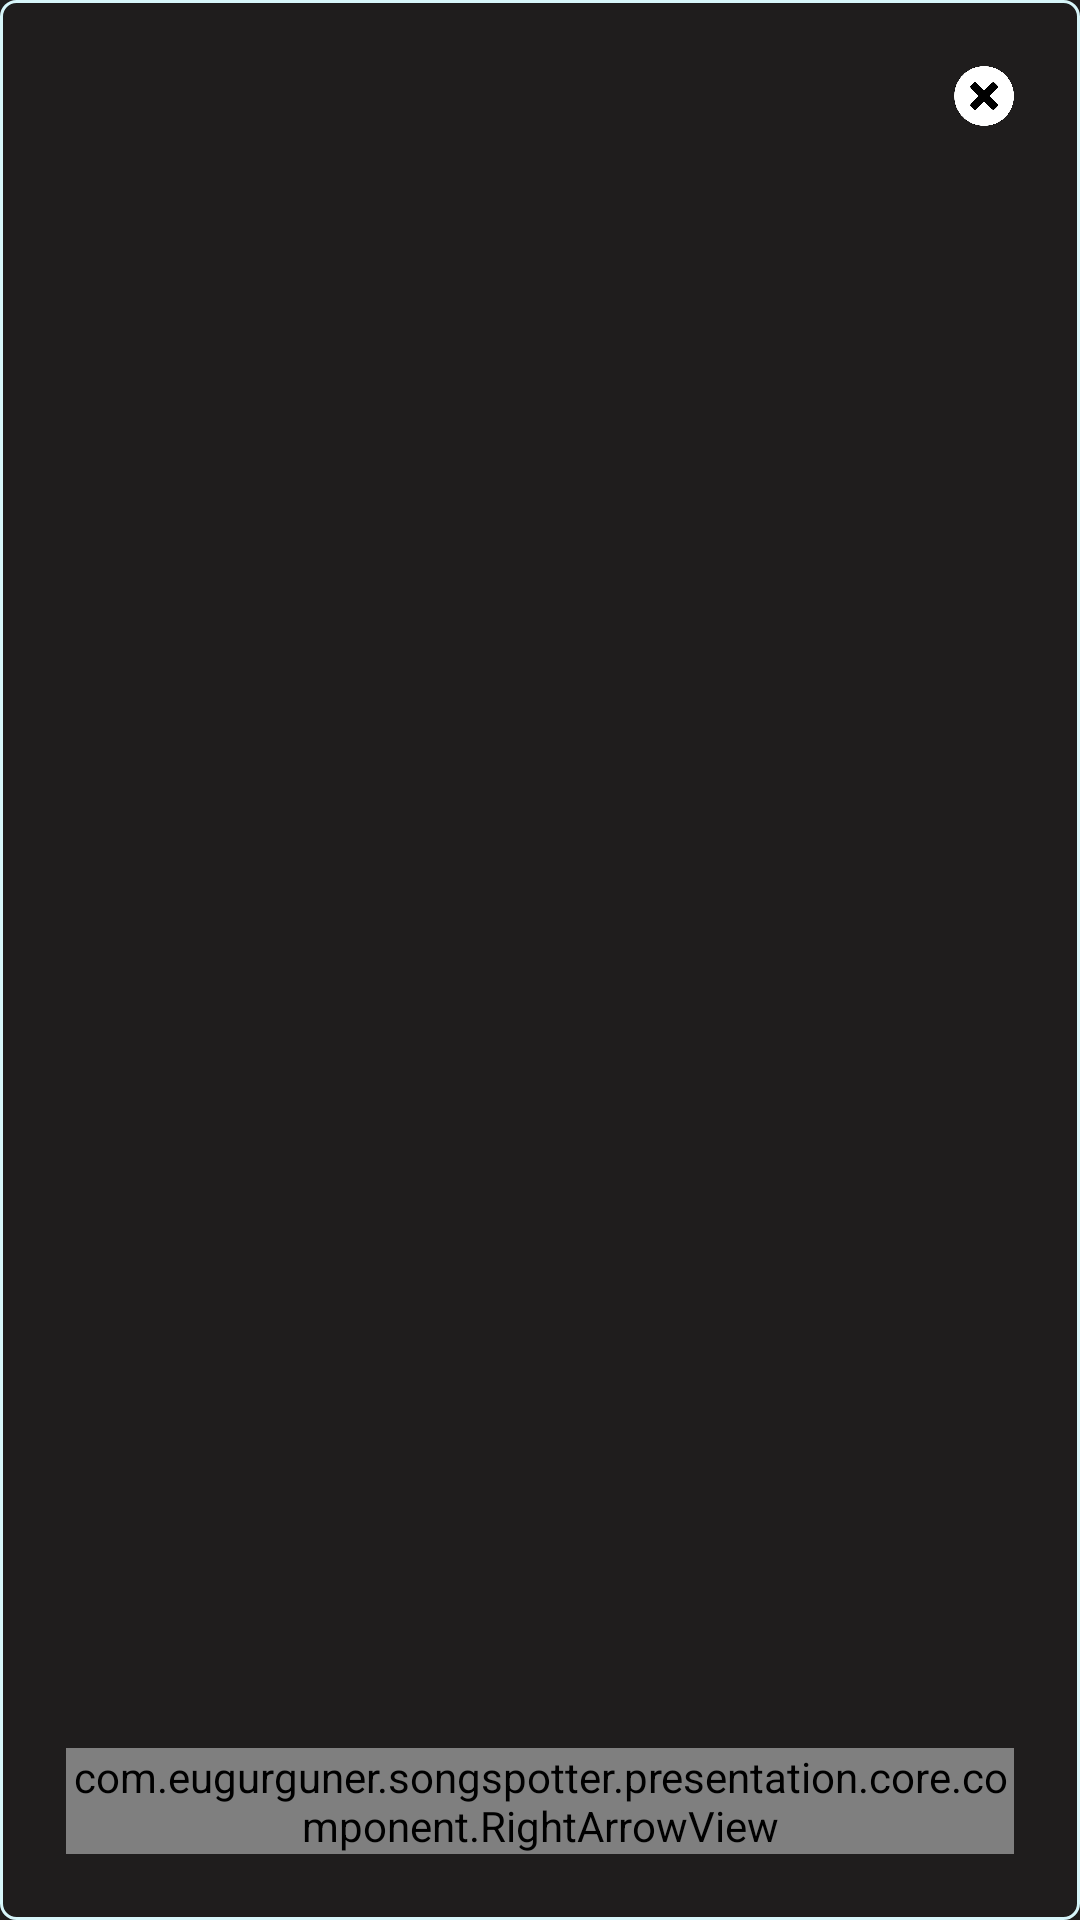

Icon click points for this 1080x1920 phone screenshot, format [x,y]:
cancel: [984,96]
